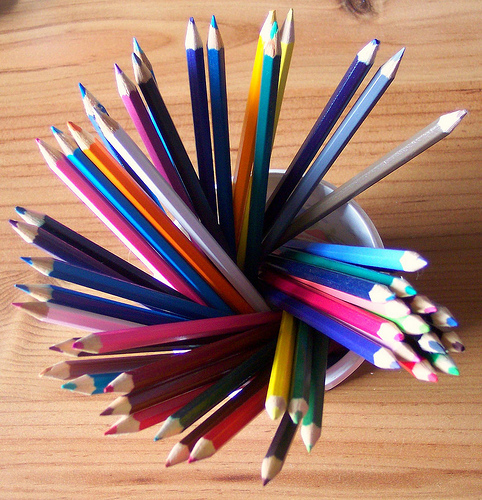pen_tip: (431, 94, 473, 150), (3, 215, 42, 249), (203, 9, 228, 61)
